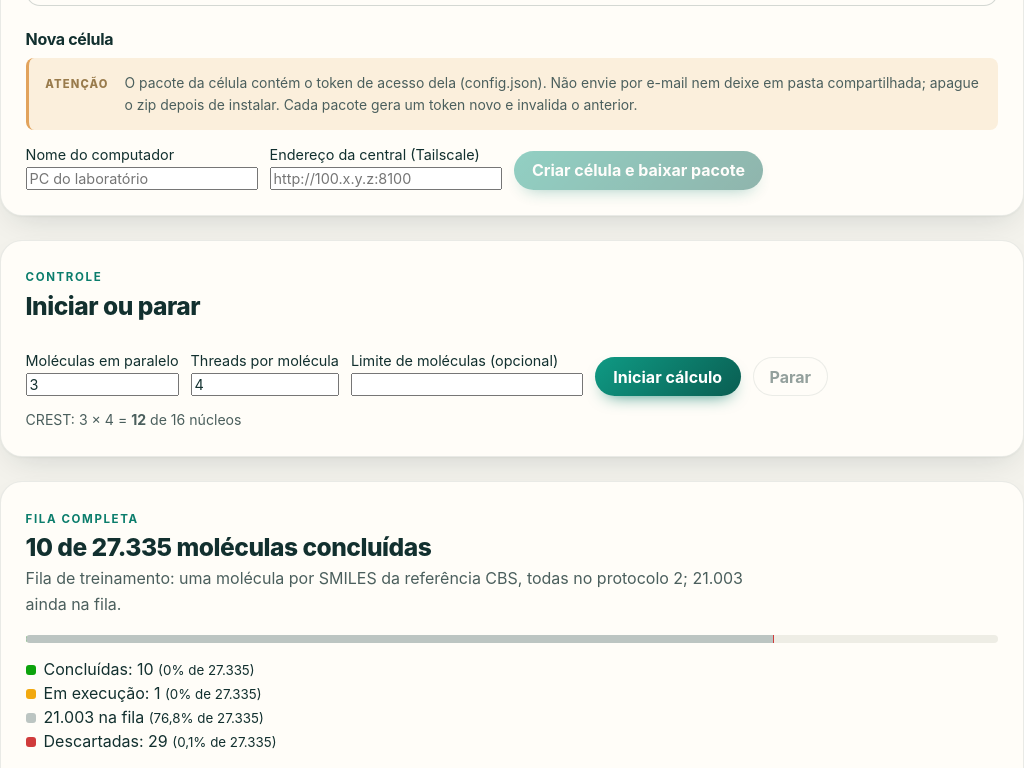
Test case: avisa quando workers × threads passa dos núcleos
(page scrolled)
Check: the picture named "Andamento do treinamento" is shown, box [26,635,998,643]
Replace the text in the number field labelled "Moléculas em paralelo" with "4" at [102, 385], box [26,373,179,396]
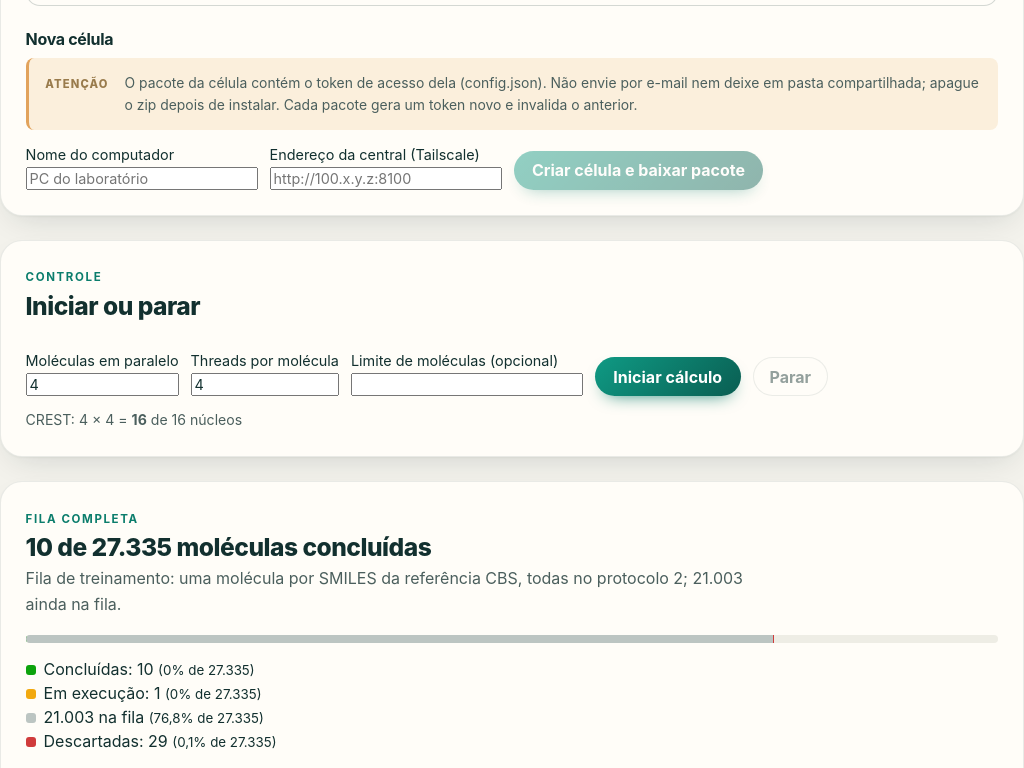
Replace the text in the number field labelled "Threads por molécula" with "8" at [265, 385], box [191,373,339,396]
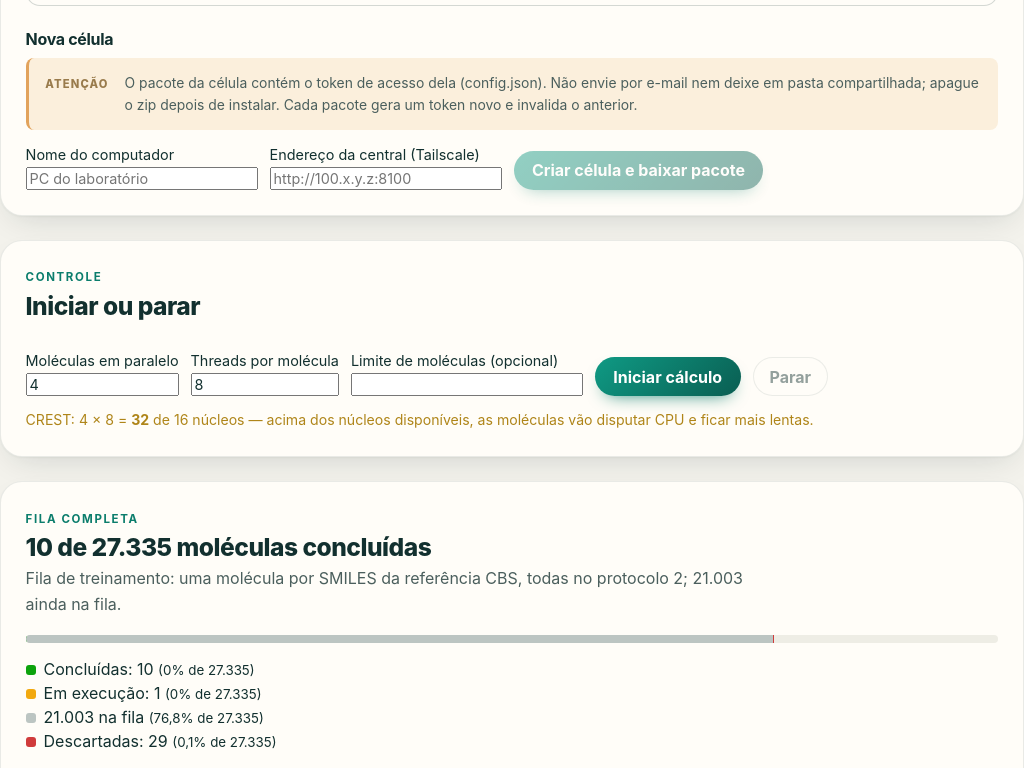
Check: the text "acima dos núcleos disponíveis" shows "32 de 16 núcleos", box [26,411,814,428]
